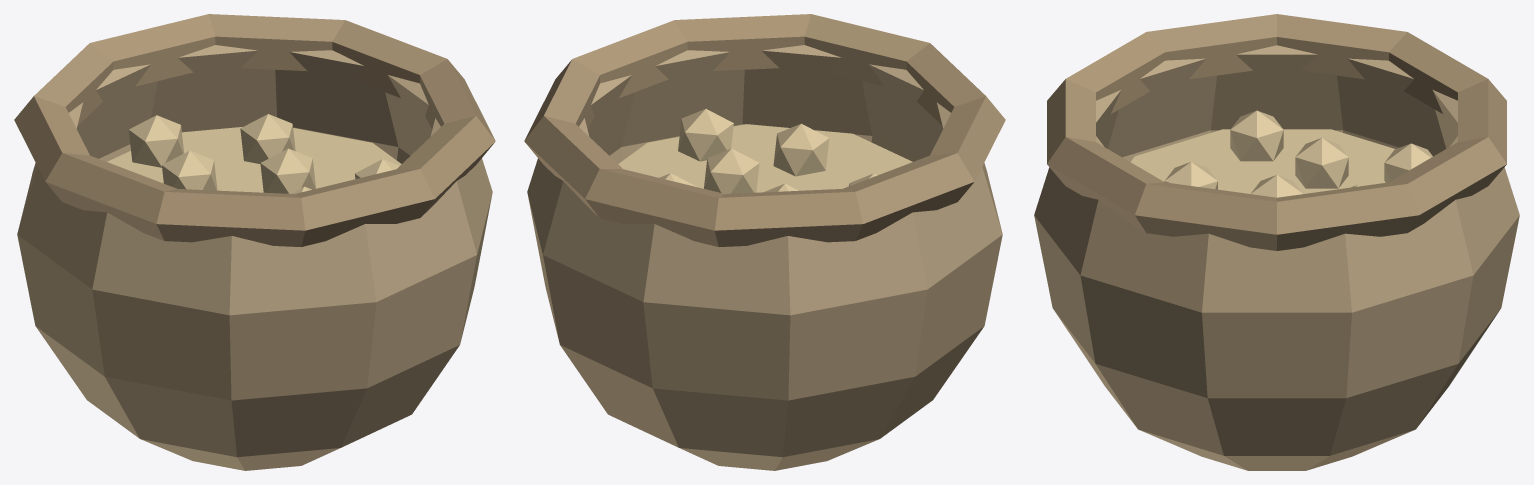
The model's file is SeedBag.fbx.
3 views of the same model, side by side, from view 1: azimuth 30°, elevation 25°; view 2: azimuth 150°, elevation 25°; view 3: azimuth 270°, elevation 25° (orthographic).
Visible parts, largest first — view 1: Tool_SeedBag, Bag_Seeds; view 2: Tool_SeedBag, Bag_Seeds; view 3: Tool_SeedBag, Bag_Seeds.
Part boxes in pixels (box(x1,y1,x2,y2)): Tool_SeedBag: box(14, 14, 495, 470); Bag_Seeds: box(107, 114, 401, 193); Tool_SeedBag: box(524, 14, 1005, 470); Bag_Seeds: box(618, 109, 912, 193); Tool_SeedBag: box(1034, 14, 1519, 470); Bag_Seeds: box(1130, 110, 1432, 197).
Size of the model in its own units: 0.1694 by 0.1258 by 0.17.
